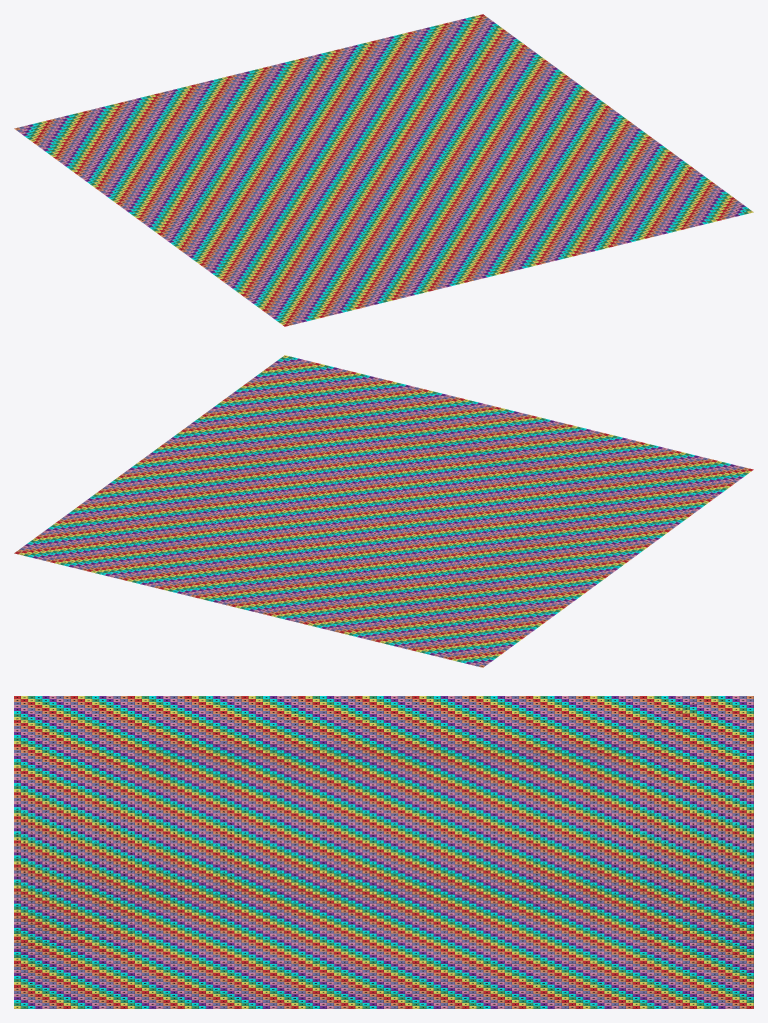
The model's file is watertess_clipmap.fbx.
3 renders of one model, top to bottom at view 1: azimuth 30°, elevation 25°; view 2: azimuth 150°, elevation 25°; view 3: azimuth 270°, elevation 25°, orthographic. The views are drawn at different scales.
Visible parts, largest first — view 1: Plane.028, Plane.026, Plane.017, Plane.027, Plane.034, Plane.041, Plane.043, Plane.044, Plane.048, Plane.053, Plane.055, Plane.058 (+157 smaller); view 2: Plane.017, Plane.027, Plane.034, Plane.040, Plane.041, Plane.043, Plane.048, Plane.052, Plane.053, Plane.055, Plane.058, Plane.066 (+157 smaller); view 3: Plane.003, Plane.002, Plane.008, Plane.017, Plane.027, Plane.042, Plane.054, Plane.028, Plane.001, Plane.005, Plane.007, Plane.010 (+157 smaller).
Boxes of the visible parts, x1=… form: Plane.028: x1=490, y1=186, x2=546, y2=210; Plane.026: x1=604, y1=199, x2=660, y2=223; Plane.017: x1=314, y1=128, x2=370, y2=151; Plane.027: x1=397, y1=189, x2=453, y2=212; Plane.034: x1=464, y1=132, x2=520, y2=155; Plane.041: x1=329, y1=104, x2=385, y2=127; Plane.043: x1=257, y1=121, x2=313, y2=145; Plane.044: x1=221, y1=130, x2=277, y2=154; Plane.048: x1=247, y1=185, x2=303, y2=208; Plane.053: x1=382, y1=213, x2=438, y2=236; Plane.055: x1=454, y1=195, x2=510, y2=219; Plane.058: x1=500, y1=123, x2=556, y2=146; Plane.017: x1=314, y1=530, x2=370, y2=553; Plane.027: x1=397, y1=469, x2=453, y2=492; Plane.034: x1=247, y1=473, x2=303, y2=496; Plane.040: x1=221, y1=527, x2=277, y2=551; Plane.041: x1=257, y1=536, x2=313, y2=560; Plane.043: x1=329, y1=554, x2=385, y2=577; Plane.048: x1=464, y1=526, x2=520, y2=549; Plane.052: x1=490, y1=471, x2=546, y2=495; Plane.053: x1=454, y1=462, x2=510, y2=486; Plane.055: x1=382, y1=445, x2=438, y2=468; Plane.058: x1=211, y1=464, x2=267, y2=487; Plane.066: x1=272, y1=560, x2=328, y2=584; Plane.003: x1=355, y1=840, x2=412, y2=864; Plane.002: x1=298, y1=840, x2=355, y2=864; Plane.008: x1=412, y1=840, x2=469, y2=864; Plane.017: x1=469, y1=840, x2=526, y2=864; Plane.027: x1=241, y1=840, x2=298, y2=864; Plane.042: x1=526, y1=840, x2=583, y2=864; Plane.054: x1=184, y1=840, x2=241, y2=864; Plane.028: x1=184, y1=888, x2=241, y2=912; Plane.001: x1=298, y1=864, x2=355, y2=888; Plane.005: x1=298, y1=816, x2=355, y2=840; Plane.007: x1=412, y1=816, x2=469, y2=840; Plane.010: x1=412, y1=864, x2=469, y2=888.
Size of the model in its own units: 1664 by 8.49e-05 by 1664.
